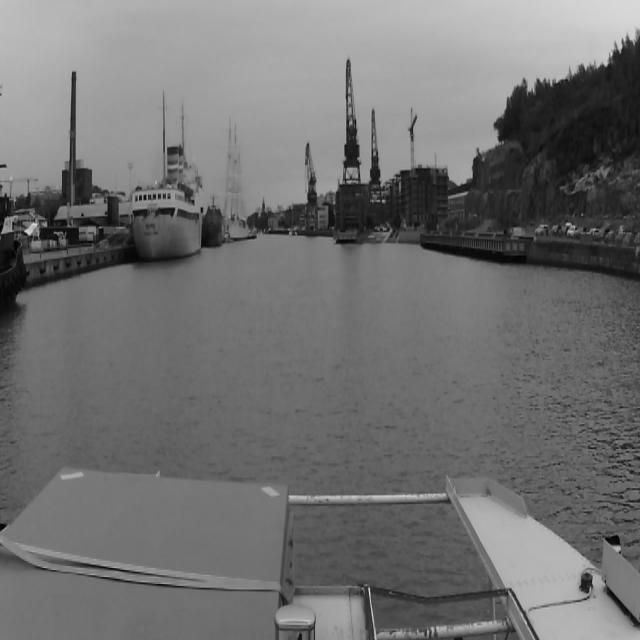ship: (128, 145, 202, 259), (226, 116, 252, 242), (202, 196, 222, 246)
